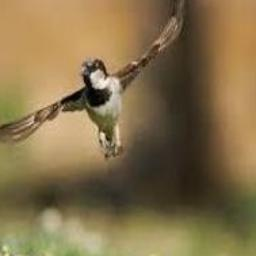Sparrow: (0, 0, 186, 159)
